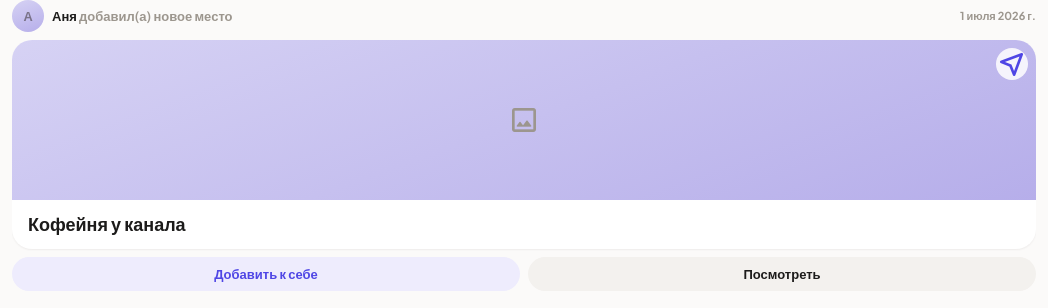
it: FeedItemCard › shows "Добавлено" and disables the button after a successful add
The image size is (1048, 308).
Click the button "Добавить к себе" at (266, 274), box x1=12 y1=257 x2=520 y2=291
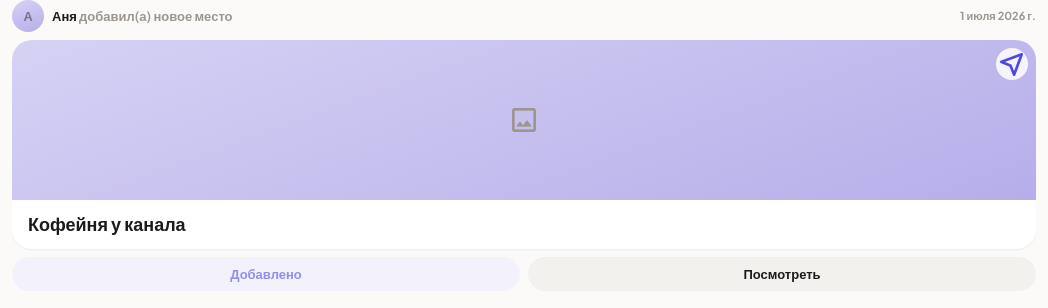
Now the button "Добавлено" is disabled, box x1=12 y1=257 x2=520 y2=291
